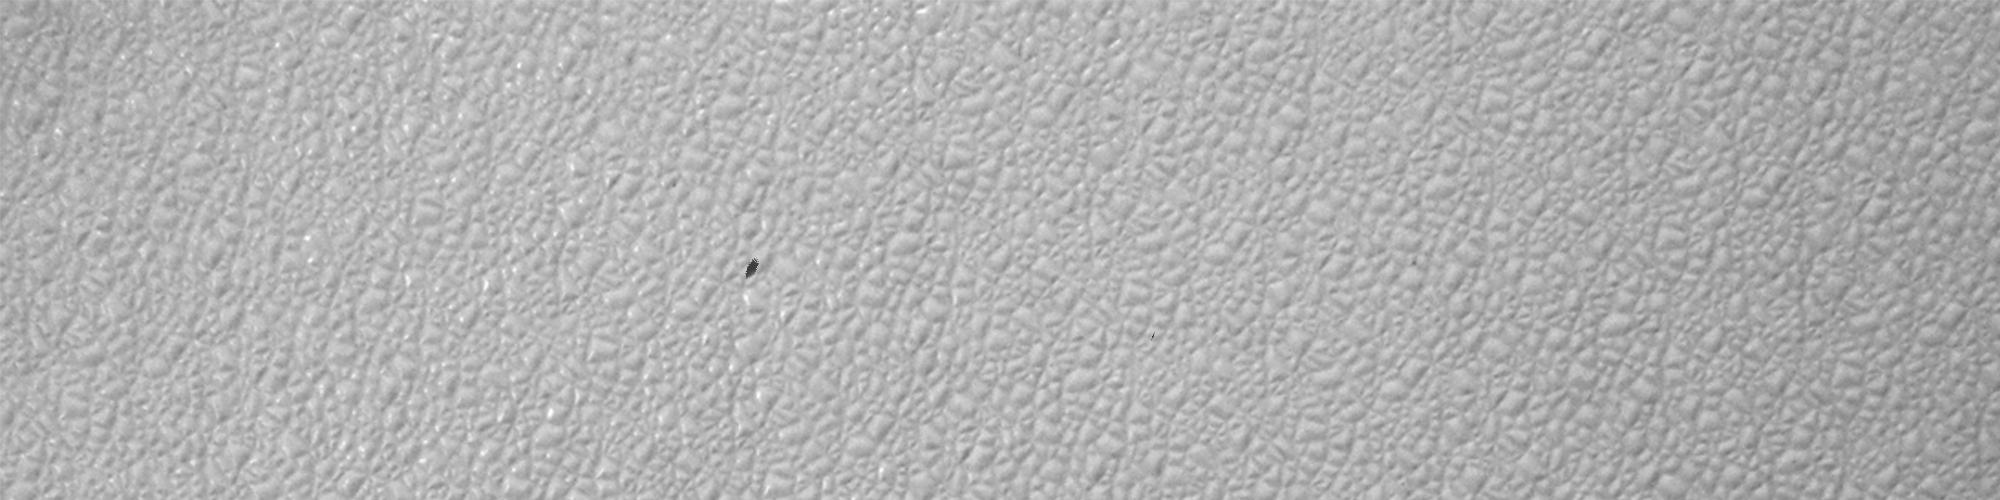Decomposed: (739, 255, 763, 282)
